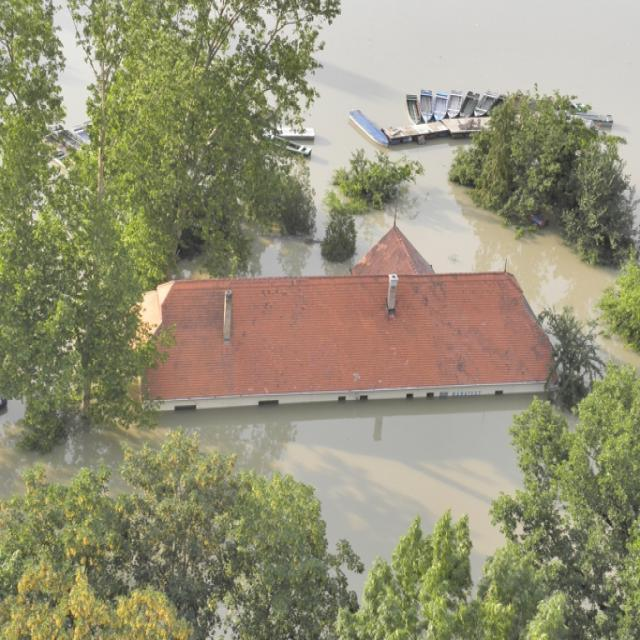flood: (307, 0, 640, 238), (160, 399, 528, 576), (388, 141, 617, 320), (258, 239, 351, 275)
house: (152, 269, 561, 408)
